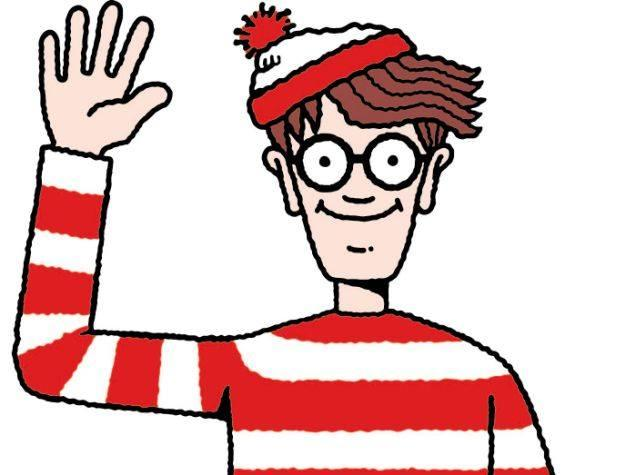waldo: (239, 3, 476, 307)
